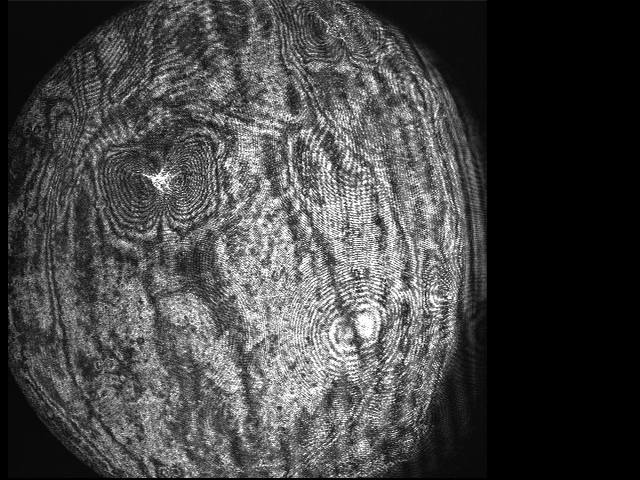plume: (99, 136, 220, 232)
